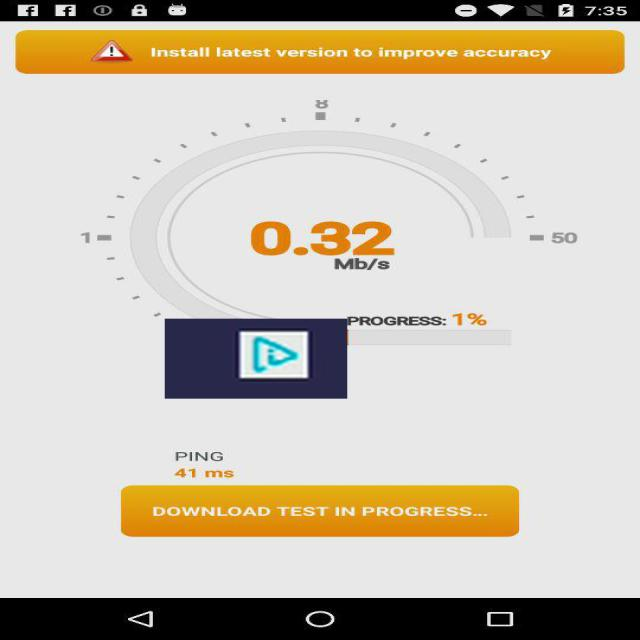sneaking: (165, 318, 347, 398)
